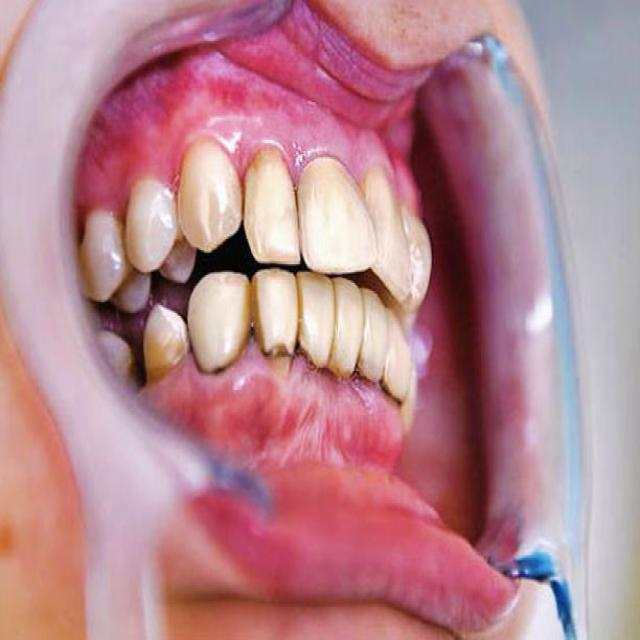caries: (256, 329, 296, 387), (300, 346, 346, 394), (380, 375, 413, 422), (354, 357, 386, 402)
